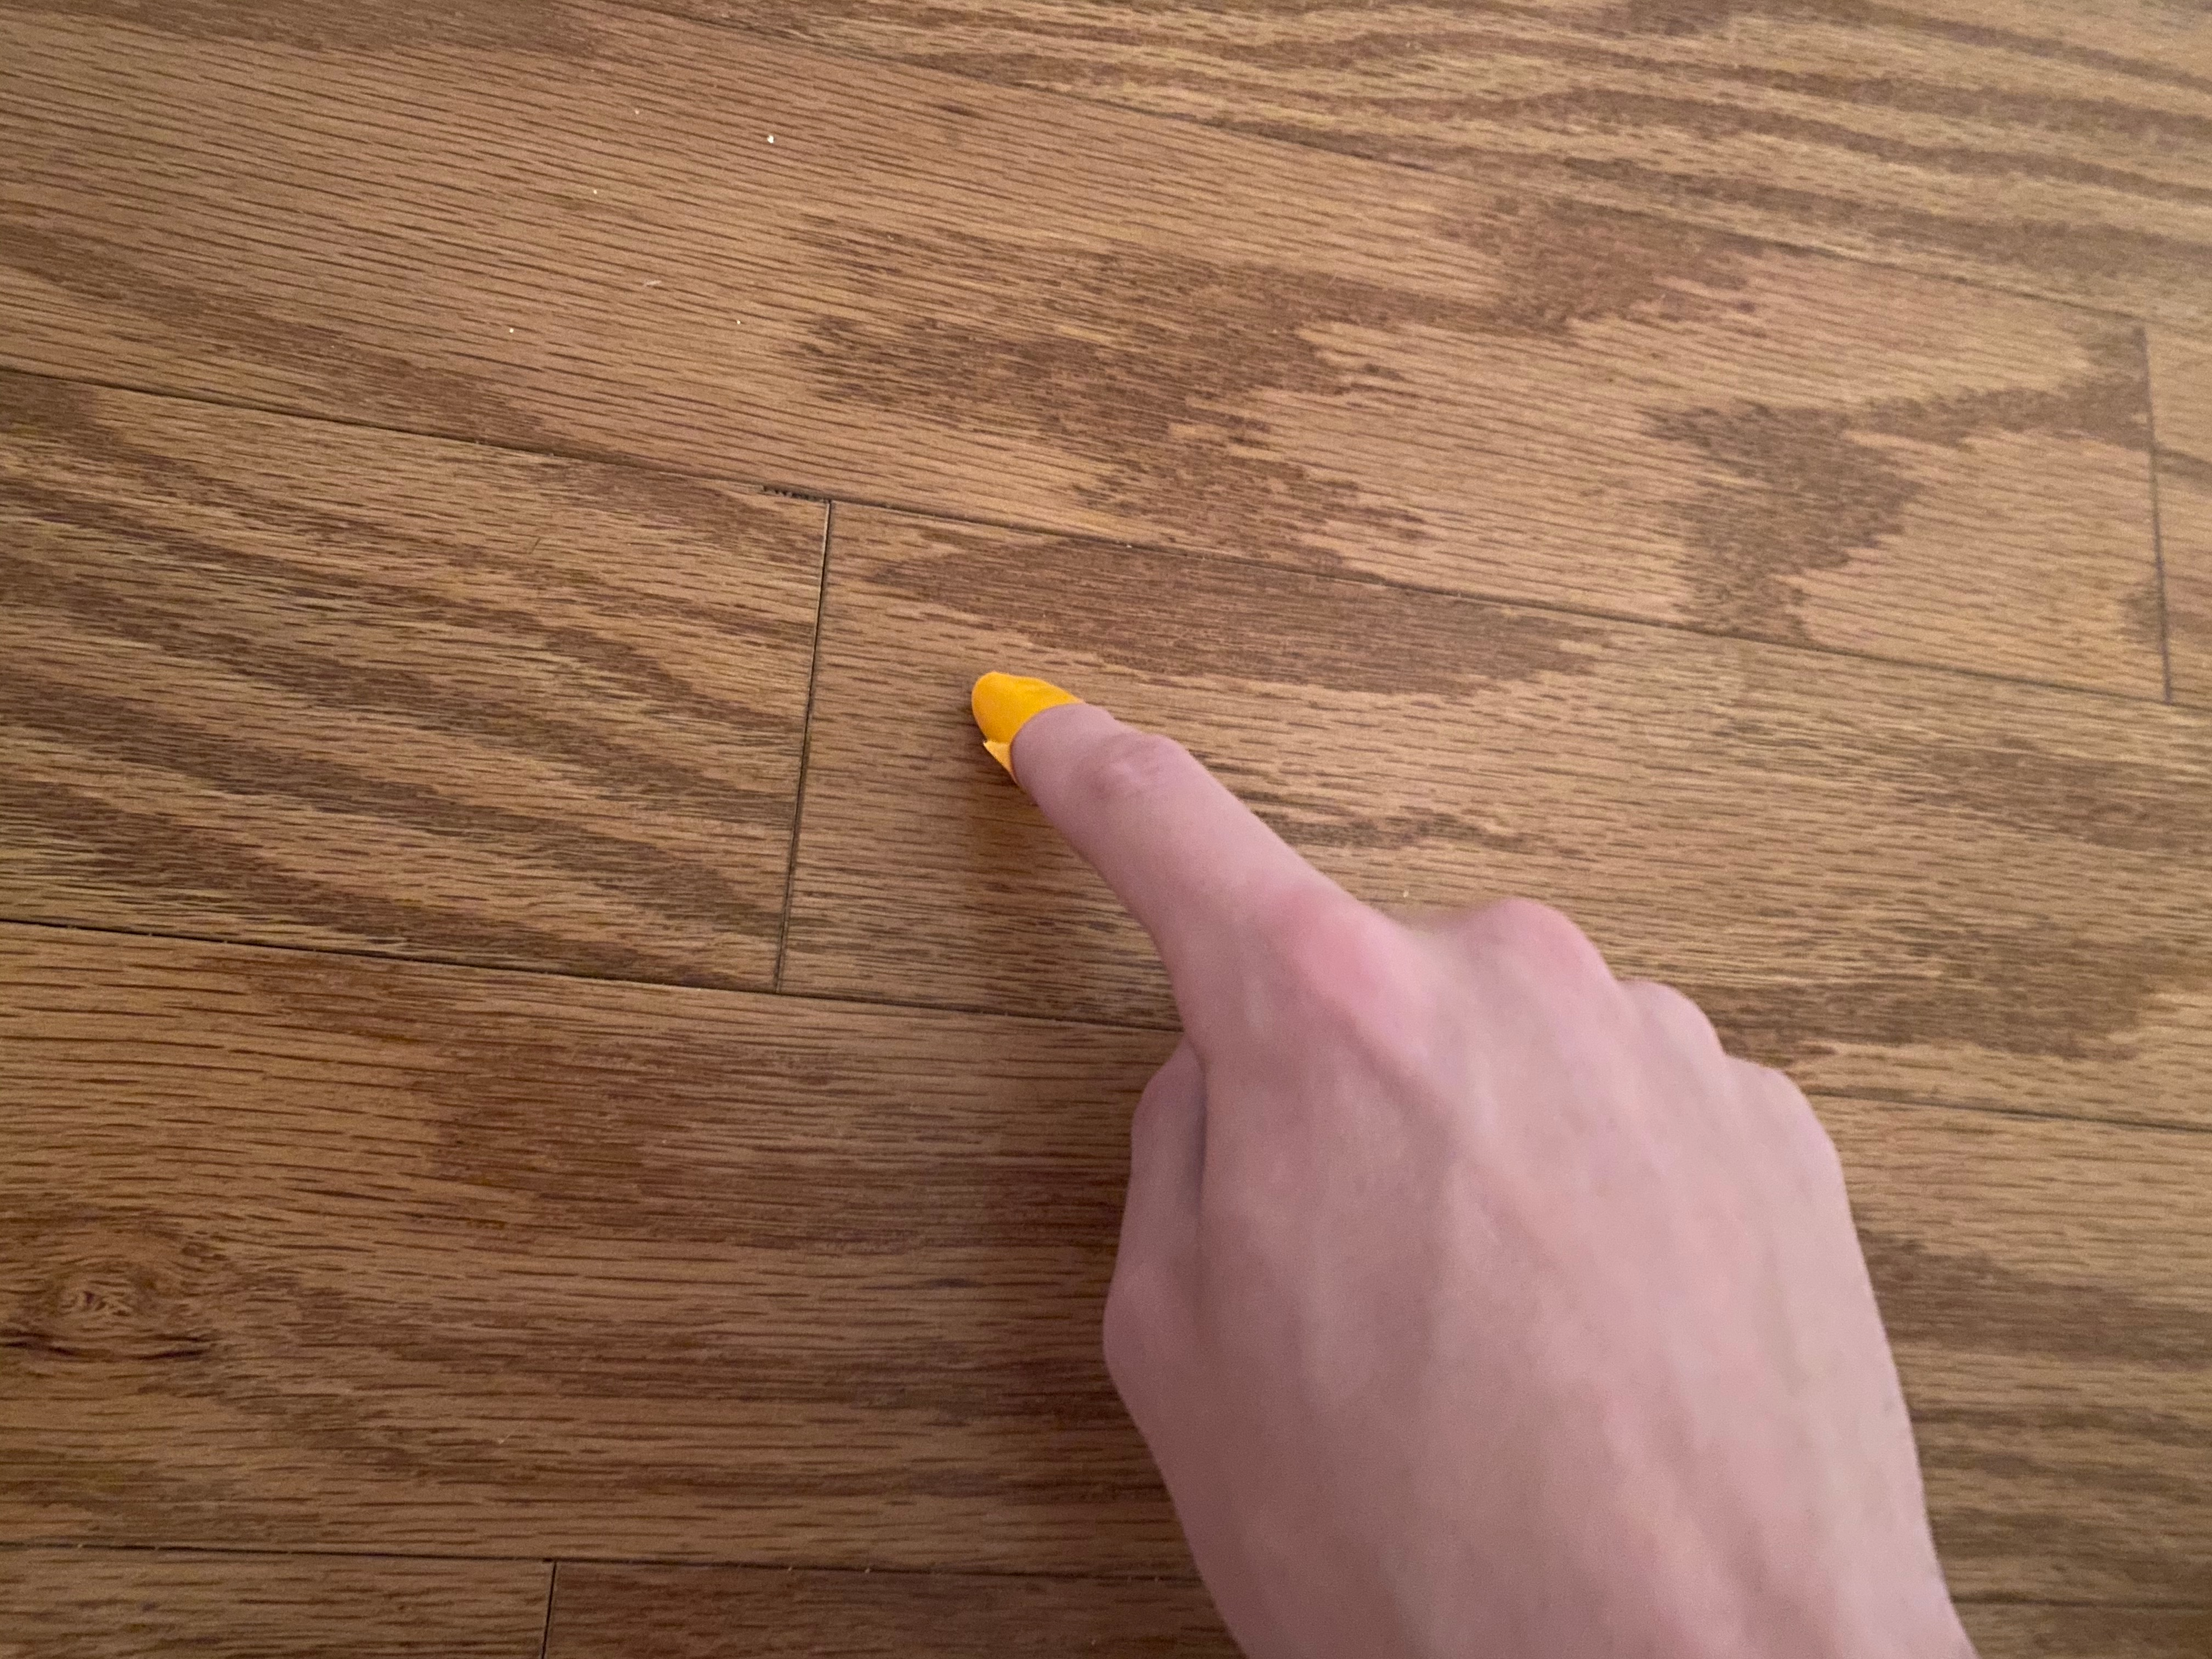fingertip: (948, 653, 1146, 807)
